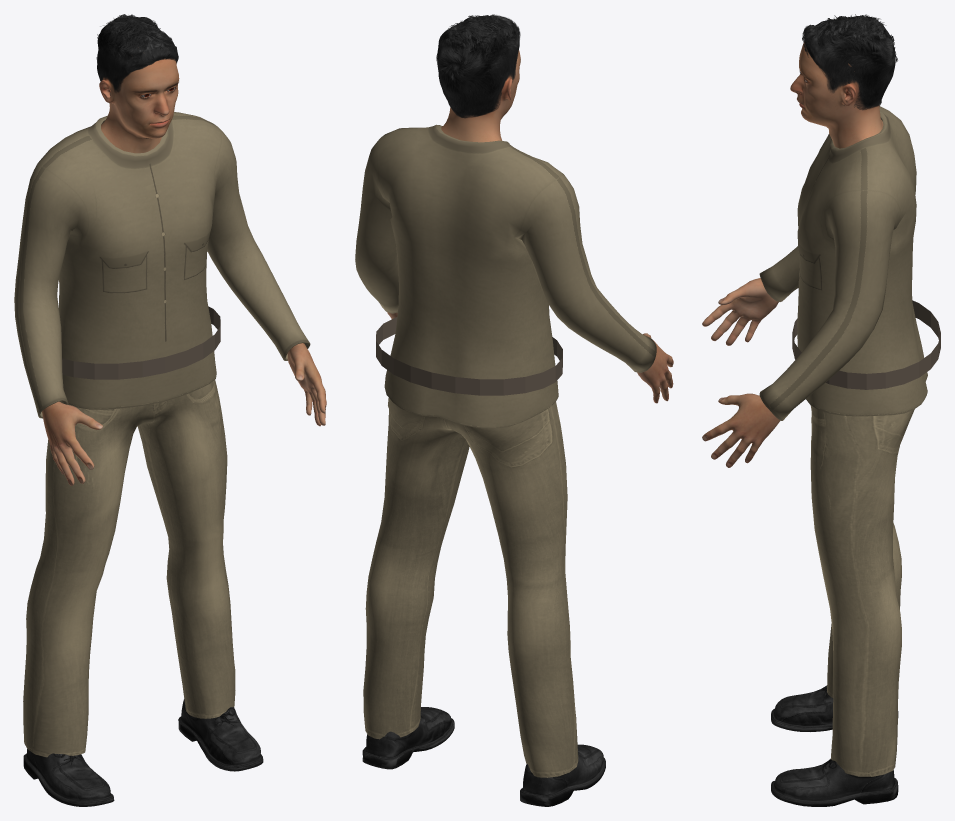
Rendered from scout_idle.glb.
The picture shows the model from 3 angles, left to right: view 1: azimuth 30°, elevation 25°; view 2: azimuth 150°, elevation 25°; view 3: azimuth 270°, elevation 25°; orthographic projection.
Visible parts, largest first — view 1: ScoutIdle_ContactBody.male_casualsuit02, ScoutIdle_ContactBody, ScoutIdle_ContactBody.shoes04, ScoutIdle_ContactBody.short01, ScoutIdle_Plain leather waist belt; view 2: ScoutIdle_ContactBody.male_casualsuit02, ScoutIdle_ContactBody.short01, ScoutIdle_ContactBody.shoes04, ScoutIdle_Plain leather waist belt, ScoutIdle_ContactBody; view 3: ScoutIdle_ContactBody.male_casualsuit02, ScoutIdle_ContactBody, ScoutIdle_ContactBody.shoes04, ScoutIdle_ContactBody.short01, ScoutIdle_Plain leather waist belt.
Part boxes in pixels (left/top/right/bottom): ScoutIdle_ContactBody.male_casualsuit02: left=14, top=112, right=310, bottom=757; ScoutIdle_ContactBody: left=42, top=58, right=326, bottom=485; ScoutIdle_ContactBody.shoes04: left=23, top=699, right=263, bottom=806; ScoutIdle_ContactBody.short01: left=96, top=14, right=178, bottom=103; ScoutIdle_Plain leather waist belt: left=62, top=306, right=220, bottom=379; ScoutIdle_ContactBody.male_casualsuit02: left=355, top=124, right=656, bottom=777; ScoutIdle_ContactBody.short01: left=436, top=14, right=520, bottom=118; ScoutIdle_ContactBody.shoes04: left=362, top=707, right=605, bottom=806; ScoutIdle_Plain leather waist belt: left=376, top=317, right=562, bottom=395; ScoutIdle_ContactBody: left=387, top=50, right=673, bottom=403; ScoutIdle_ContactBody.male_casualsuit02: left=759, top=106, right=927, bottom=776; ScoutIdle_ContactBody: left=702, top=42, right=883, bottom=467; ScoutIdle_ContactBody.shoes04: left=771, top=685, right=898, bottom=806; ScoutIdle_ContactBody.short01: left=802, top=14, right=897, bottom=110; ScoutIdle_Plain leather waist belt: left=792, top=300, right=940, bottom=389.
Size of the model in its own units: 0.6647 by 1.75 by 0.5112.
Materials: 8 (7 with a texture image).
